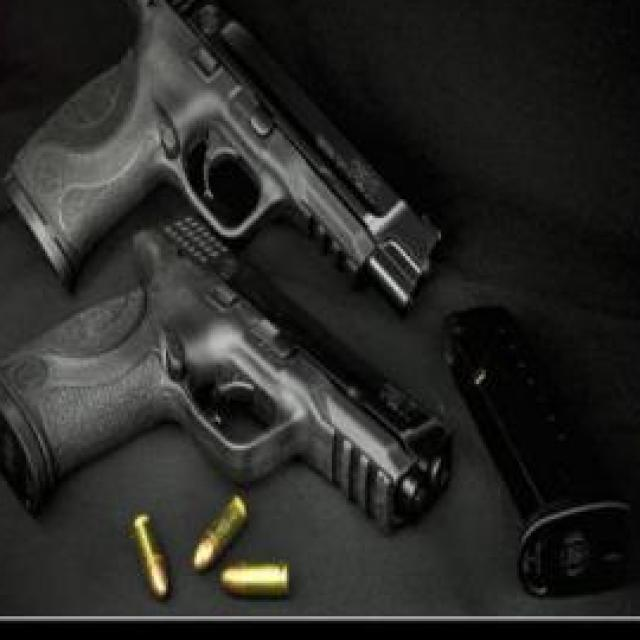pistol: (0, 214, 455, 540), (3, 0, 453, 329)
